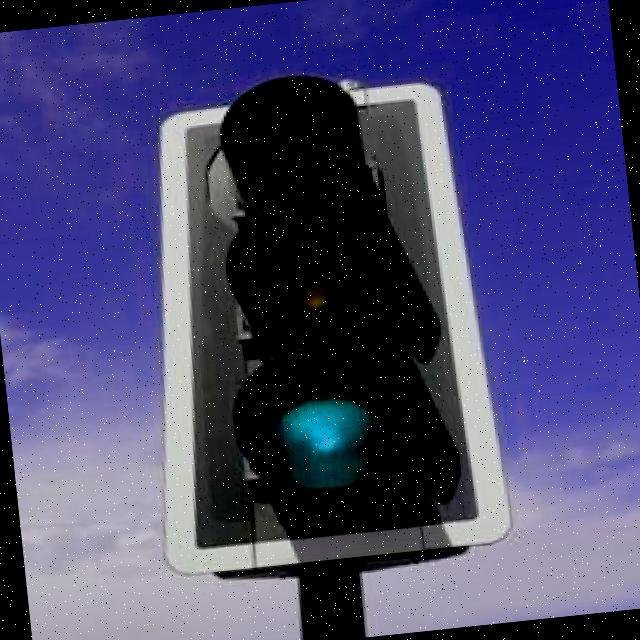Zielone swiatlo: (180, 61, 456, 538)
